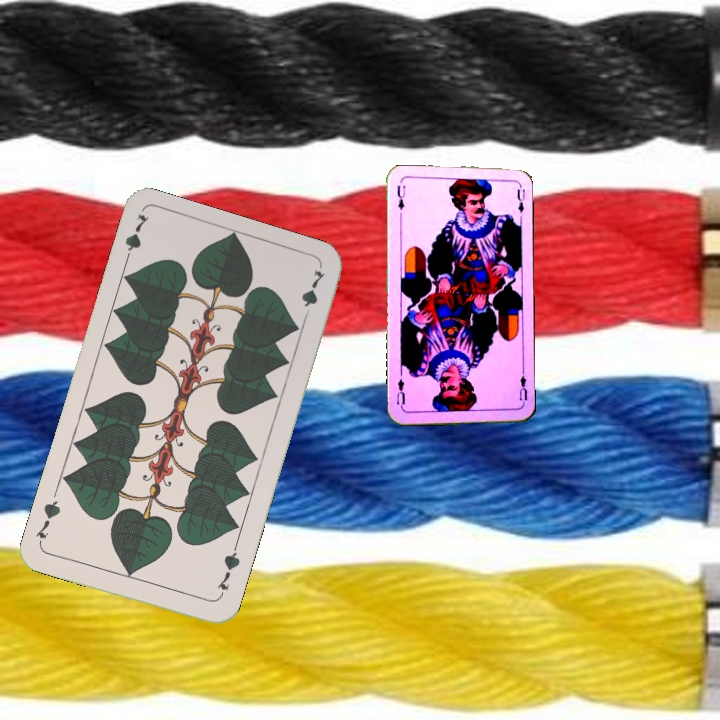EU: (514, 367, 530, 408), (393, 181, 407, 212)
G7: (120, 210, 152, 268), (213, 543, 243, 601)
